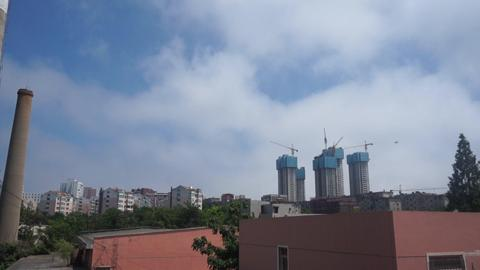UAV: (394, 140, 400, 144)
